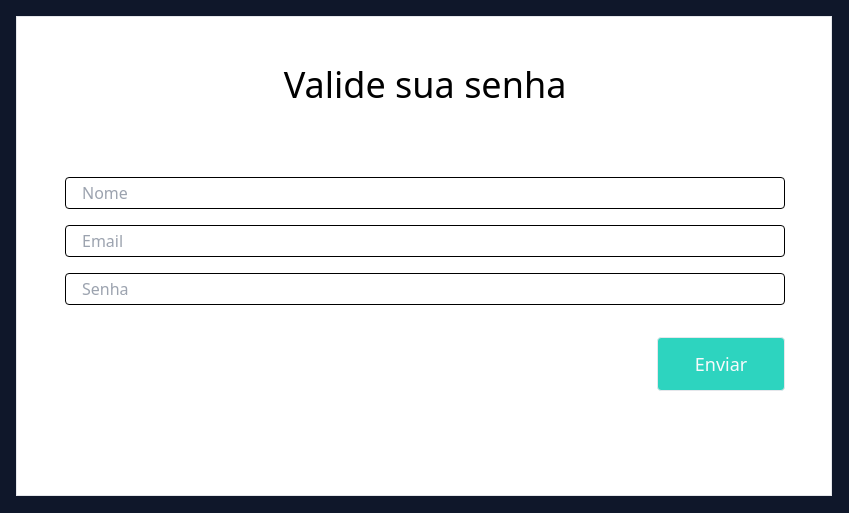
Form Submission › shows error for invalid email
Type "Ezequiel Teste" into the field with placeholder "Nome" at [425, 193], box [65, 177, 785, 209]
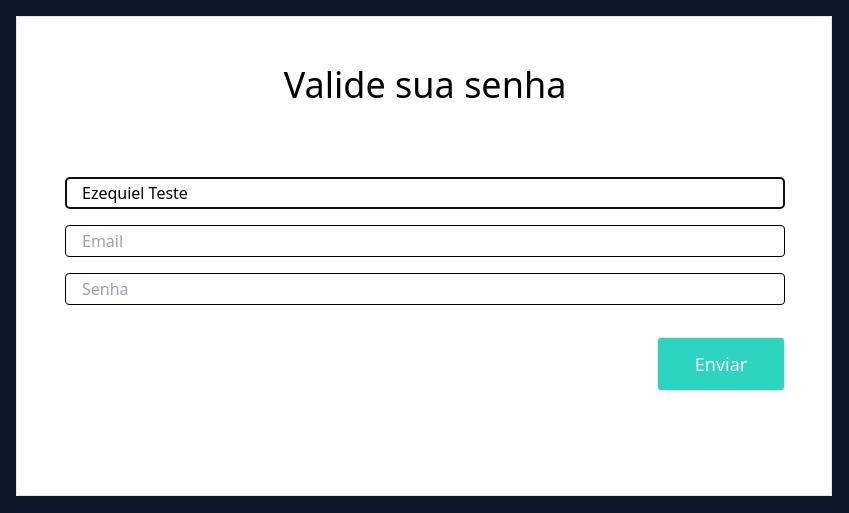
Type "invalid-email" into the field with placeholder "Email" at [425, 241], box [65, 225, 785, 257]
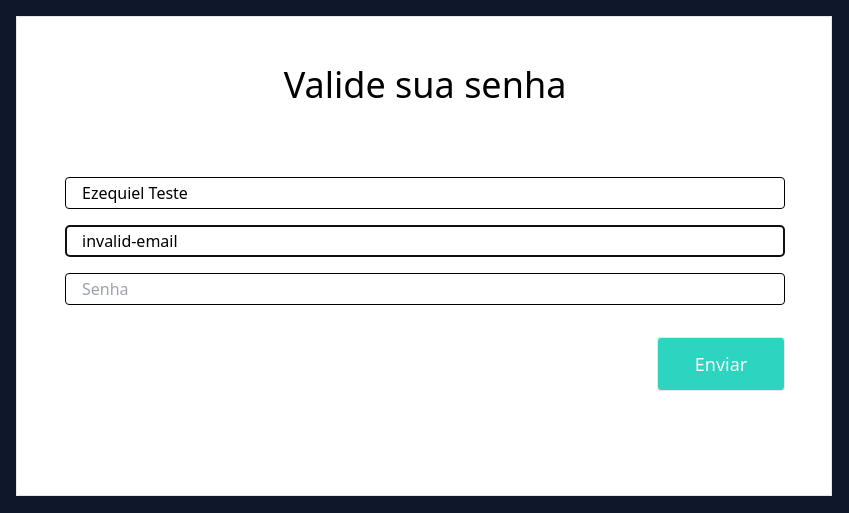
Type "184759" into the password field with placeholder "Senha" at [425, 289], box [65, 273, 785, 305]
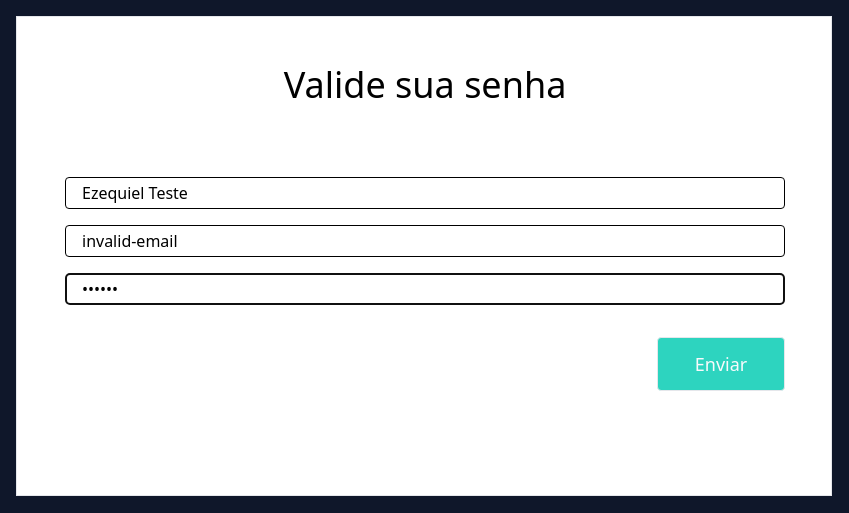
Click the button "Enviar" at [721, 364], box [657, 337, 785, 391]
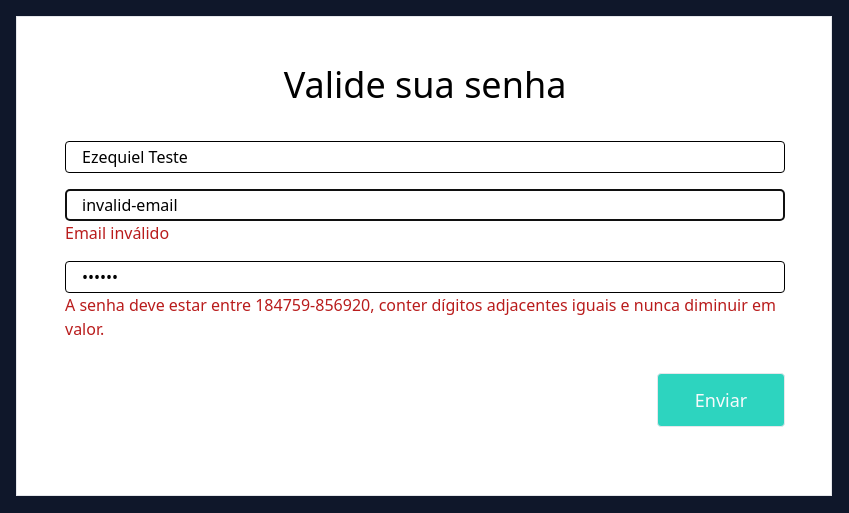
Expected: the text "Email inválido" is shown, [65, 222, 169, 244]
